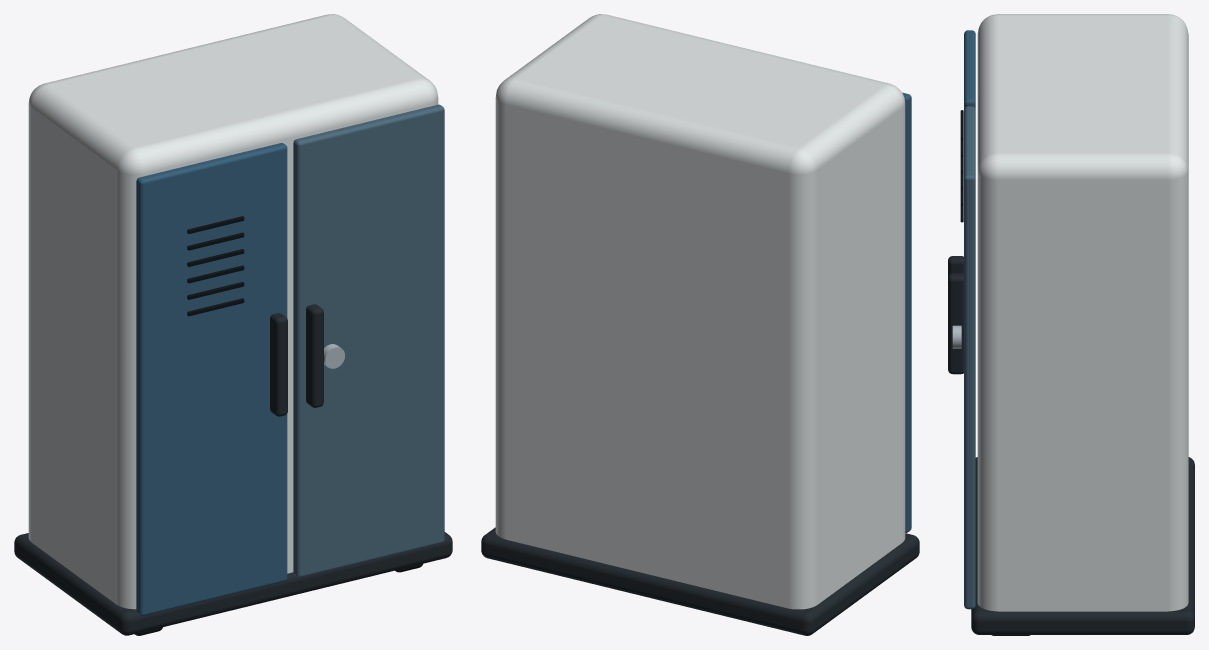
The model's file is office-furniture.glb.
3 renders of one model, left to right at view 1: azimuth 30°, elevation 25°; view 2: azimuth 150°, elevation 25°; view 3: azimuth 270°, elevation 25°, orthographic.
Parts seen in each view (by area): view 1: Cabinet door (×2), Steel cabinet enclosure, Cabinet plinth, Recessed handle (×2); view 2: Steel cabinet enclosure, Cabinet plinth, Cabinet door; view 3: Steel cabinet enclosure, Cabinet plinth, Cabinet door (×2), Recessed handle.
Boxes of the visible parts, left/top/right/bottom form: Cabinet door (×2): left=136, top=104, right=444, bottom=616; Steel cabinet enclosure: left=28, top=14, right=438, bottom=609; Cabinet plinth: left=14, top=532, right=452, bottom=635; Recessed handle (×2): left=270, top=304, right=323, bottom=416; Steel cabinet enclosure: left=495, top=14, right=905, bottom=609; Cabinet plinth: left=481, top=527, right=919, bottom=635; Cabinet door: left=902, top=92, right=911, bottom=532; Steel cabinet enclosure: left=977, top=14, right=1188, bottom=611; Cabinet plinth: left=971, top=457, right=1194, bottom=634; Cabinet door (×2): left=964, top=30, right=975, bottom=609; Recessed handle: left=948, top=273, right=963, bottom=374.
Bounding box in the file's own units: 1.48 × 2.07 × 0.96.
